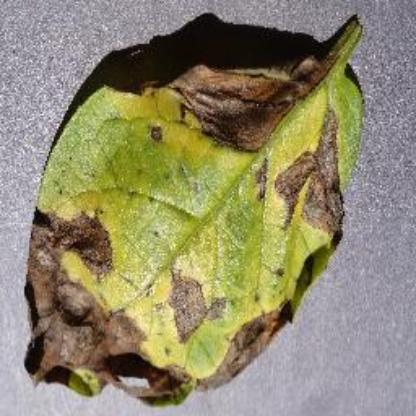Early-Blight: (22, 18, 374, 408)
